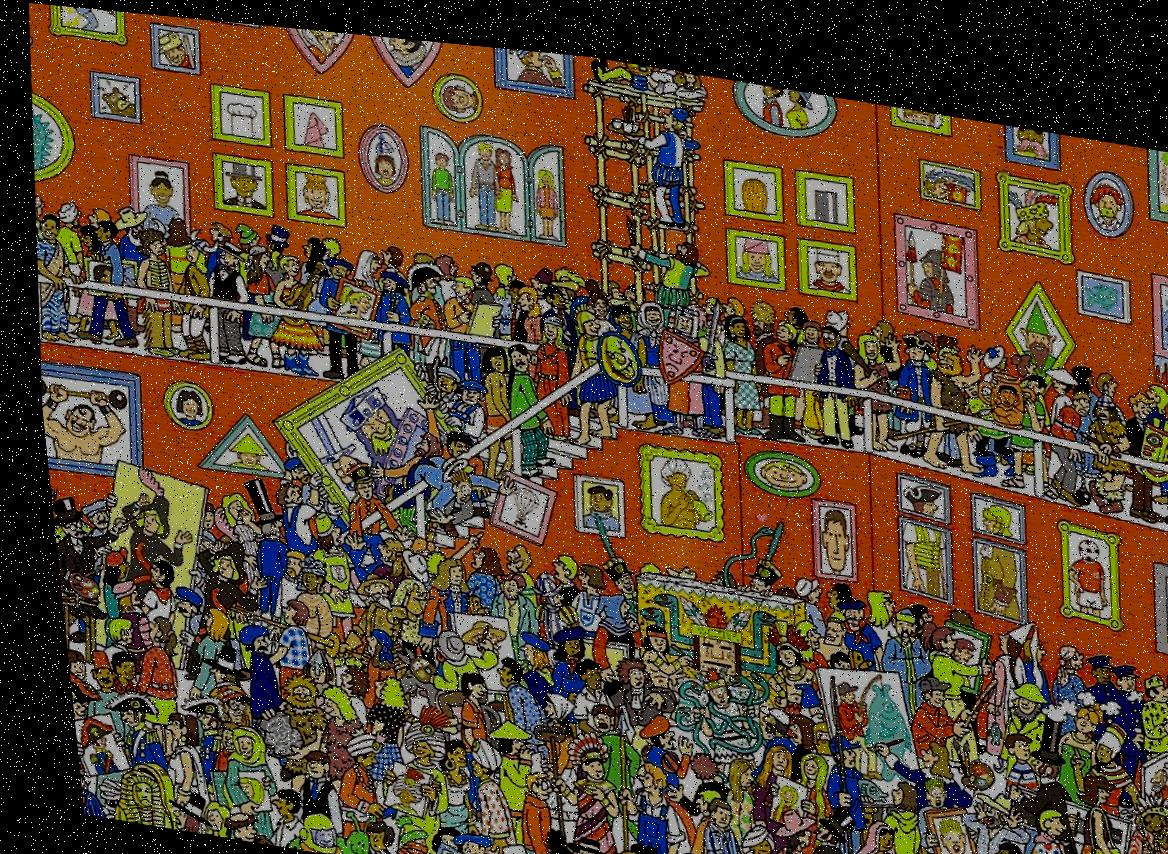waldo: (200, 681, 237, 722)
